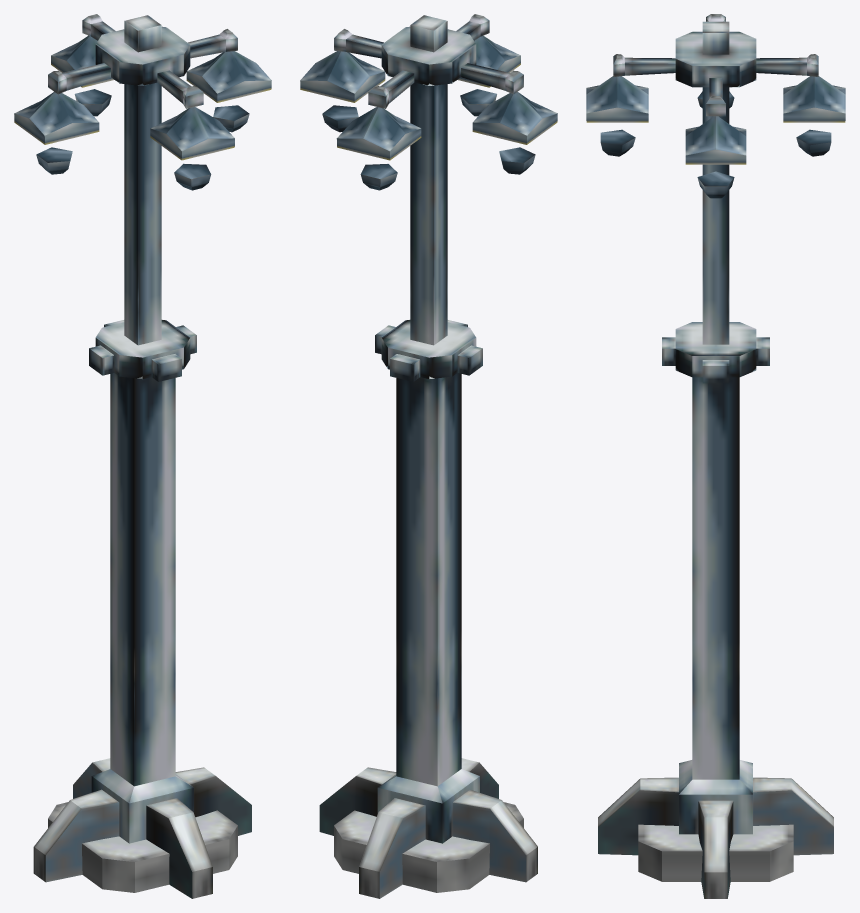
The model's file is Poly_Light_Pole_02_Snow.obj.
The picture shows the model from 3 angles, left to right: view 1: azimuth 30°, elevation 25°; view 2: azimuth 150°, elevation 25°; view 3: azimuth 270°, elevation 25°; orthographic projection.
Parts seen in each view (by area): view 1: Light_Pole_Cube.001, Light_Pole_Cube, Top_light_Cube.005, Cube.004_Cube.006, Cube_Cube.002, Cube_Cube.001, Top_light_Cube.003, Top_light_Cube.004, Icosphere.002, Icosphere.001, Top_light_Cube.002, Top_light_Cube.008 (+1 smaller); view 2: Light_Pole_Cube.001, Light_Pole_Cube, Top_light_Cube.005, Cube.004_Cube.006, Cube_Cube.002, Cube_Cube.001, Top_light_Cube.003, Top_light_Cube.004, Icosphere.002, Icosphere.001, Top_light_Cube.002, Top_light_Cube.008 (+1 smaller); view 3: Light_Pole_Cube.001, Light_Pole_Cube, Top_light_Cube.005, Cube.004_Cube.006, Cube_Cube.001, Cube_Cube.002, Top_light_Cube.004, Icosphere.001, Top_light_Cube.002, Icosphere.002, Top_light_Cube.007, Top_light_Cube.003 (+1 smaller).
Boxes of the visible parts, x1,y1,x2,y2 form: Light_Pole_Cube.001: (91,82,193,843); Light_Pole_Cube: (33,758,251,898); Top_light_Cube.005: (95,26,190,379); Cube.004_Cube.006: (48,802,237,892); Cube_Cube.002: (14,51,271,144); Cube_Cube.001: (51,35,234,160); Top_light_Cube.003: (48,29,237,94); Top_light_Cube.004: (82,14,203,108); Icosphere.002: (36,105,249,174); Icosphere.001: (74,89,211,190); Top_light_Cube.002: (124,15,161,52); Top_light_Cube.008: (89,325,196,375); Light_Pole_Cube.001: (377,82,479,843); Light_Pole_Cube: (319,758,537,898); Top_light_Cube.005: (381,26,476,379); Cube.004_Cube.006: (334,802,523,892); Cube_Cube.002: (300,51,557,144); Cube_Cube.001: (336,35,520,160); Top_light_Cube.003: (334,29,523,94); Top_light_Cube.004: (368,14,489,108); Icosphere.002: (322,105,535,174); Icosphere.001: (360,89,496,190); Top_light_Cube.002: (410,15,447,52); Top_light_Cube.008: (375,325,482,375); Light_Pole_Cube.001: (679,87,752,834); Light_Pole_Cube: (598,777,833,898); Top_light_Cube.005: (675,31,756,377); Cube.004_Cube.006: (638,824,793,881); Cube_Cube.001: (586,76,845,122); Cube_Cube.002: (685,116,746,164); Top_light_Cube.004: (613,54,818,76); Icosphere.001: (600,129,831,156); Top_light_Cube.002: (702,21,729,54); Icosphere.002: (697,91,734,198); Top_light_Cube.007: (662,337,769,365); Top_light_Cube.003: (706,14,725,116).
Size of the model in its own units: 0.7702 by 2.69 by 0.7702.
1 material, 1 textured.
